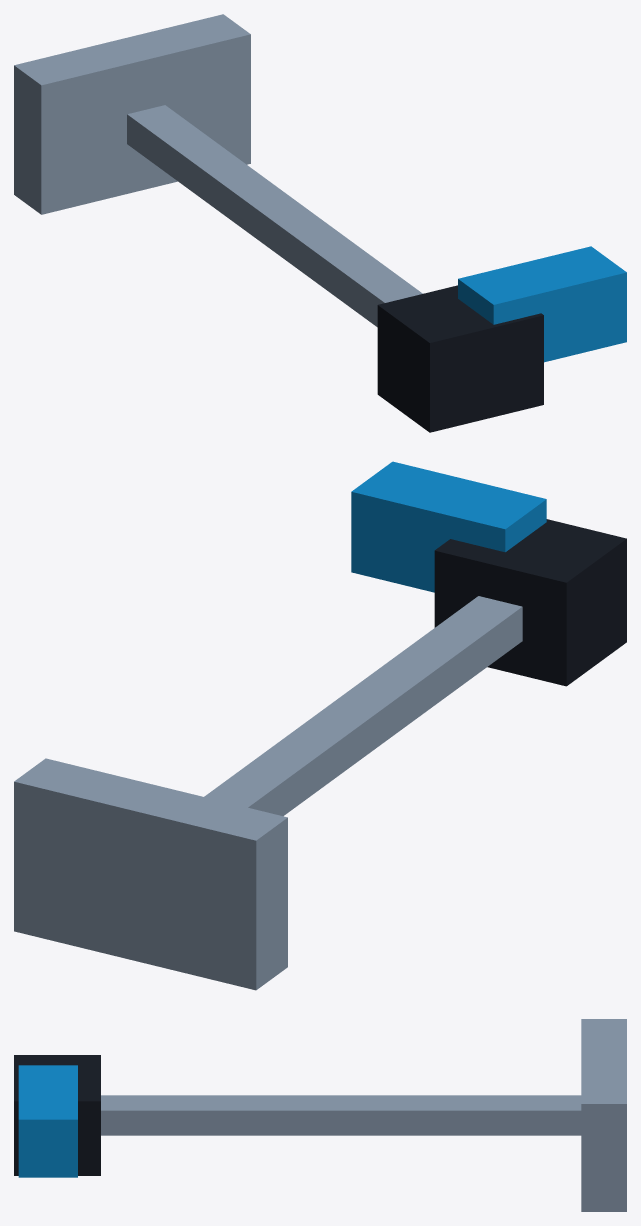
File: scout_camera_rig.obj
3 views of the same model, one above another, from view 1: azimuth 30°, elevation 25°; view 2: azimuth 150°, elevation 25°; view 3: azimuth 270°, elevation 25° (orthographic). The views are drawn at different scales.
Parts seen in each view (by area): view 1: sliding_base, pan_tilt_head, mast, camera_body; view 2: sliding_base, pan_tilt_head, mast, camera_body; view 3: mast, sliding_base, camera_body, pan_tilt_head.
Part boxes in pixels (x1=…): sliding_base: x1=14, y1=14, x2=250, y2=214; pan_tilt_head: x1=377, y1=285, x2=543, y2=432; mast: x1=127, y1=105, x2=422, y2=327; camera_body: x1=458, y1=246, x2=626, y2=362; sliding_base: x1=14, y1=758, x2=287, y2=990; pan_tilt_head: x1=434, y1=519, x2=626, y2=686; mast: x1=204, y1=596, x2=522, y2=816; camera_body: x1=351, y1=461, x2=546, y2=592; mast: x1=101, y1=1095, x2=581, y2=1135; sliding_base: x1=581, y1=1019, x2=626, y2=1211; camera_body: x1=18, y1=1065, x2=77, y2=1177; pan_tilt_head: x1=14, y1=1055, x2=100, y2=1175.
Bounding box in the file's own units: 0.52 × 0.26 × 1.34.
